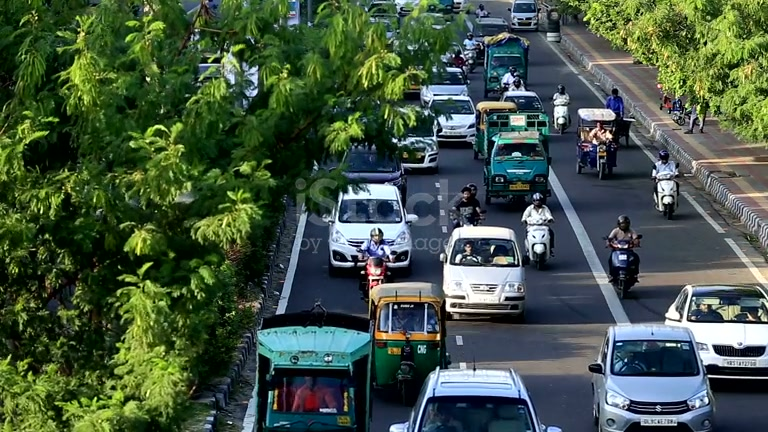bus: (255, 303, 373, 429)
car: (587, 323, 718, 430), (388, 365, 565, 431), (367, 281, 451, 399), (663, 284, 768, 377), (439, 225, 529, 322), (326, 182, 415, 277), (483, 131, 551, 209), (390, 102, 440, 173), (429, 95, 477, 143), (394, 135, 440, 173), (508, 0, 540, 30)
motorcycle: (607, 234, 642, 300), (358, 240, 391, 301), (525, 221, 555, 270), (653, 172, 682, 220), (576, 141, 598, 175), (597, 141, 615, 179), (553, 105, 571, 134)
pedestrian: (605, 215, 643, 280), (521, 194, 555, 260), (358, 227, 394, 286), (448, 183, 484, 230), (651, 149, 681, 204), (427, 402, 465, 432), (693, 300, 724, 322), (456, 240, 482, 265)
truck: (312, 142, 415, 275), (483, 33, 531, 100)
